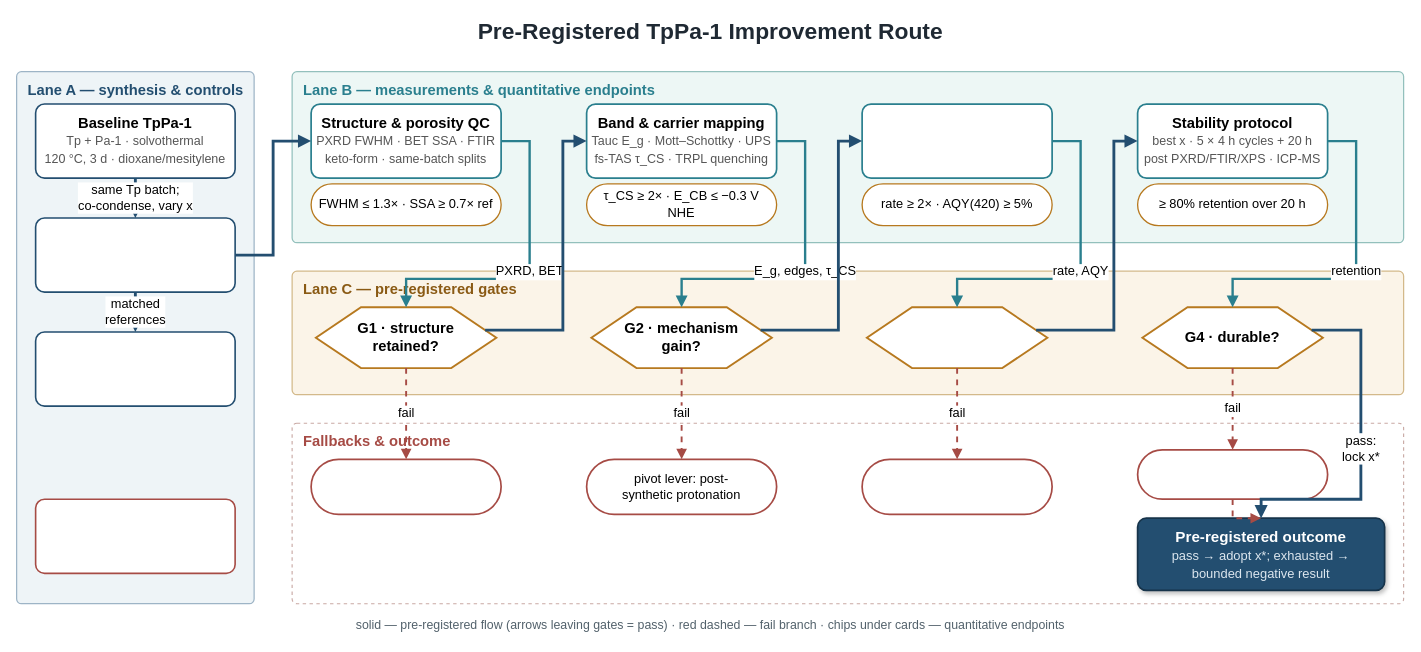
The diagram is 1421 pixels wide and 652 high, and some of its shapes have lost their labels. The shapes that lost their labels are listed below. From the top down, each one's centre as x and y in pixels, then its label:
At point 957,141: "HER assay (matched) 3 wt% Pt · 10 vol% TEOA · ≥420 nm vs x = 0 + blend controls".
At point 135,255: "Mixed-linker D–A series (1−x) Pa-1 + x BT(NH₂)₂ x = 0.05 / 0.10 / 0.25 / 0.50".
At point 956,337: "G3 · activity gain?".
At point 135,369: "Matched controls x = 0 · physical blend · amorphous analog · same activation".
At point 406,486: "reduce x (≤ 0.10); re-optimize solvent / AcOH".
At point 957,486: "fallback: Pt₁ single-atom cocatalyst, matched wt%".
At point 1232,474: "swap acceptor: milder pyridinediamine".
At point 135,536: "Safety plan sealed-tube pressure · solvent & Pt-salt handling · H₂ venting".
